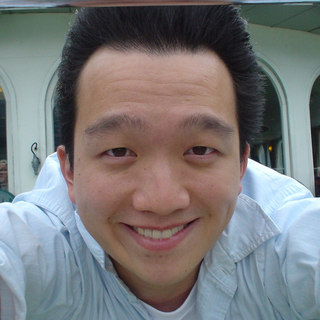eye: (177, 139, 226, 166), (90, 141, 145, 165)
